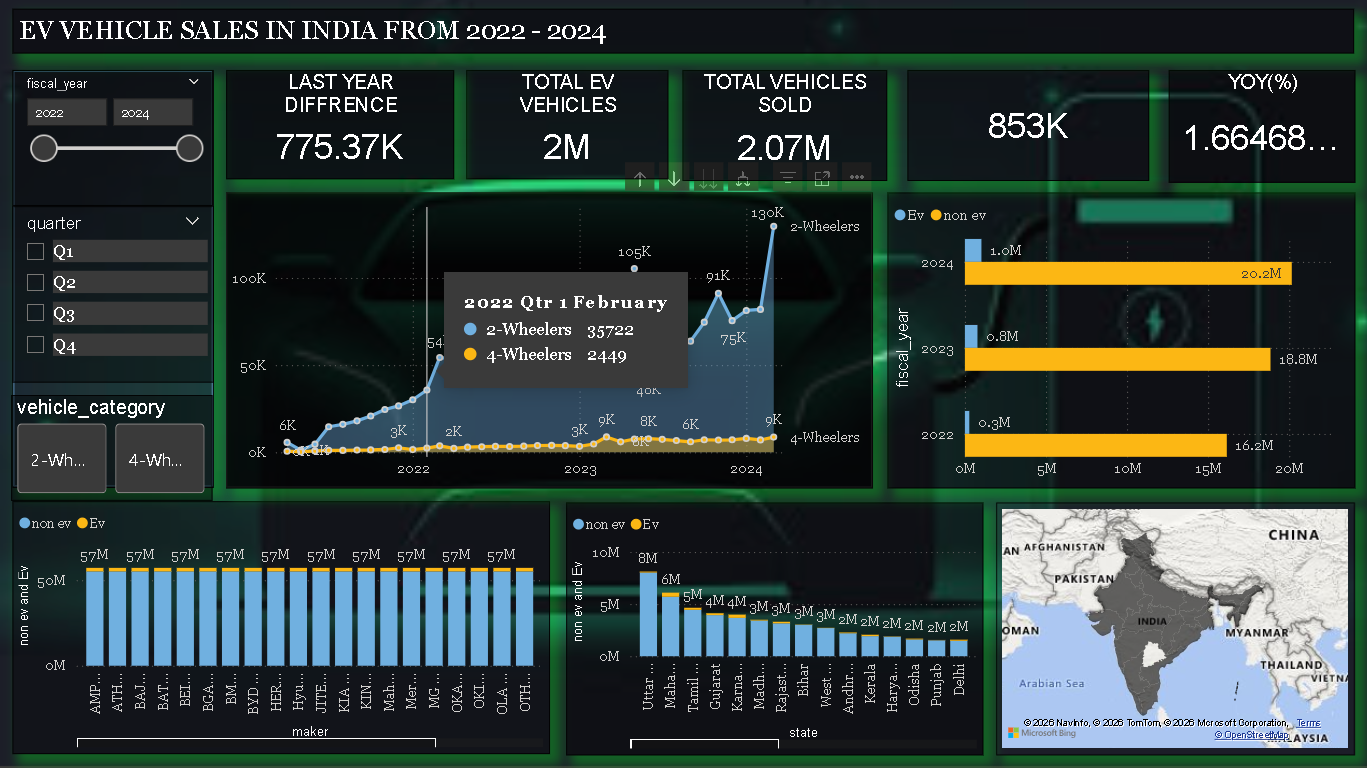

The dashboard page shown, as its layout file describes it:
{"tool":"powerbi","page":{"name":"Page 1","canvas":[1280,720],"ordinal":0},"visuals":[{"type":"shape","box":[16.2,70,187.5,388.8],"z":0},{"type":"columnChart","fields":{"Category":["electric_vehicle_sales_by_makers.maker"],"Y":["dim_date.non ev","Sum(electric_vehicle_sales_by_state.electric_vehicles_sold)"]},"box":[16.2,471.2,500,235],"z":1000},{"type":"columnChart","fields":{"Category":["electric_vehicle_sales_by_state.state"],"Y":["dim_date.non ev","Sum(electric_vehicle_sales_by_state.electric_vehicles_sold)"]},"box":[531.7,471.7,388.3,235],"z":2000},{"type":"clusteredBarChart","fields":{"Category":["dim_date.fiscal_year"],"Y":["Sum(electric_vehicle_sales_by_state.electric_vehicles_sold)","dim_date.non ev"]},"box":[830,183.3,435,275],"z":3000},{"type":"card","title":"YOY(%)","fields":{"Values":["dim_date.YoY % Change"]},"box":[1091.7,70,173.3,105],"z":4000},{"type":"areaChart","fields":{"Category":["dim_date.date.Variation.Date Hierarchy.Year","dim_date.date.Variation.Date Hierarchy.Quarter","dim_date.date.Variation.Date Hierarchy.Month","dim_date.date.Variation.Date Hierarchy.Day"],"Series":["electric_vehicle_sales_by_state.vehicle_category"],"Y":["Sum(electric_vehicle_sales_by_state.electric_vehicles_sold)"]},"box":[215,183.3,601.7,275],"z":5000},{"type":"filledMap","fields":{"Category":["electric_vehicle_sales_by_state.state"]},"box":[931.7,471.7,333.3,235],"z":6000},{"type":"card","title":"TOTAL VEHICLES SOLD ","fields":{"Values":["dim_date.Total Sales"]},"box":[640,70,190,103.3],"z":7000},{"type":"card","title":"TOTAL EV VEHICLES","fields":{"Values":["Sum(electric_vehicle_sales_by_state.electric_vehicles_sold)"]},"box":[438.3,70,188.3,101.7],"z":8000},{"type":"card","fields":{"Values":["dim_date.YoY Target"]},"box":[848.3,70,225,103.3],"z":9000},{"type":"card","title":"LAST YEAR DIFFRENCE","fields":{"Values":["dim_date.Sales LY"]},"box":[215,70,211.7,101.7],"z":10000},{"type":"advancedSlicerVisual","fields":{"Values":["electric_vehicle_sales_by_state.vehicle_category"]},"box":[15,372.5,187.5,98.8],"z":11000},{"type":"slicer","fields":{"Values":["dim_date.fiscal_year"]},"box":[16.7,70,186.7,126.7],"z":12000},{"type":"slicer","fields":{"Values":["dim_date.quarter"]},"box":[16.2,196.2,187.5,163.8],"z":13000},{"type":"textbox","box":[16.7,13.3,1248.3,41.7],"z":14000}]}

Visuals, with their boxes in screenshot pixels (x1, y1, x2, y2), scaled from the page's 1280x720 canvas onto the 1367x768 screenshot:
shape: 17:75:218:489
columnChart - electric_vehicle_sales_by_makers.maker x dim_date.non ev: 17:503:551:753
columnChart - electric_vehicle_sales_by_state.state x dim_date.non ev: 568:503:983:754
clusteredBarChart - dim_date.fiscal_year x Sum(electric_vehicle_sales_by_state.electric_vehicles_sold): 886:196:1351:489
"YOY(%)" card: 1166:75:1351:187
areaChart - dim_date.date.Variation.Date Hierarchy.Year x dim_date.date.Variation.Date Hierarchy.Quarter: 230:196:872:489
filledMap - electric_vehicle_sales_by_state.state: 995:503:1351:754
"TOTAL VEHICLES SOLD " card: 684:75:886:185
"TOTAL EV VEHICLES" card: 468:75:669:183
card - dim_date.YoY Target: 906:75:1146:185
"LAST YEAR DIFFRENCE" card: 230:75:456:183
advancedSlicerVisual - electric_vehicle_sales_by_state.vehicle_category: 16:397:216:503
slicer - dim_date.fiscal_year: 18:75:217:210
slicer - dim_date.quarter: 17:209:218:384
textbox: 18:14:1351:59
